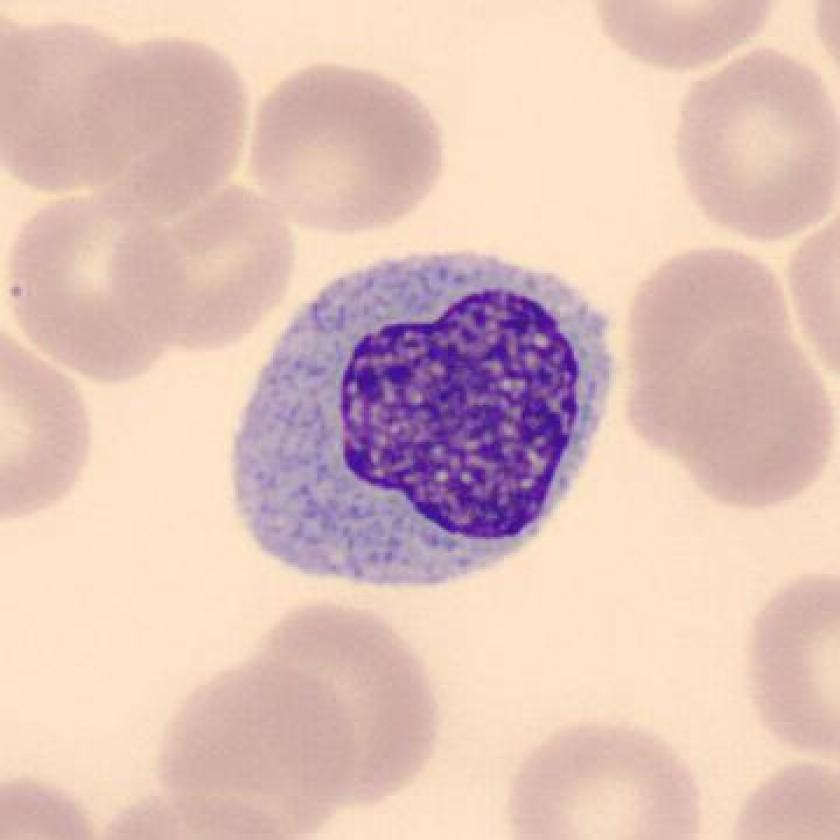monocyte: (218, 242, 631, 617)
